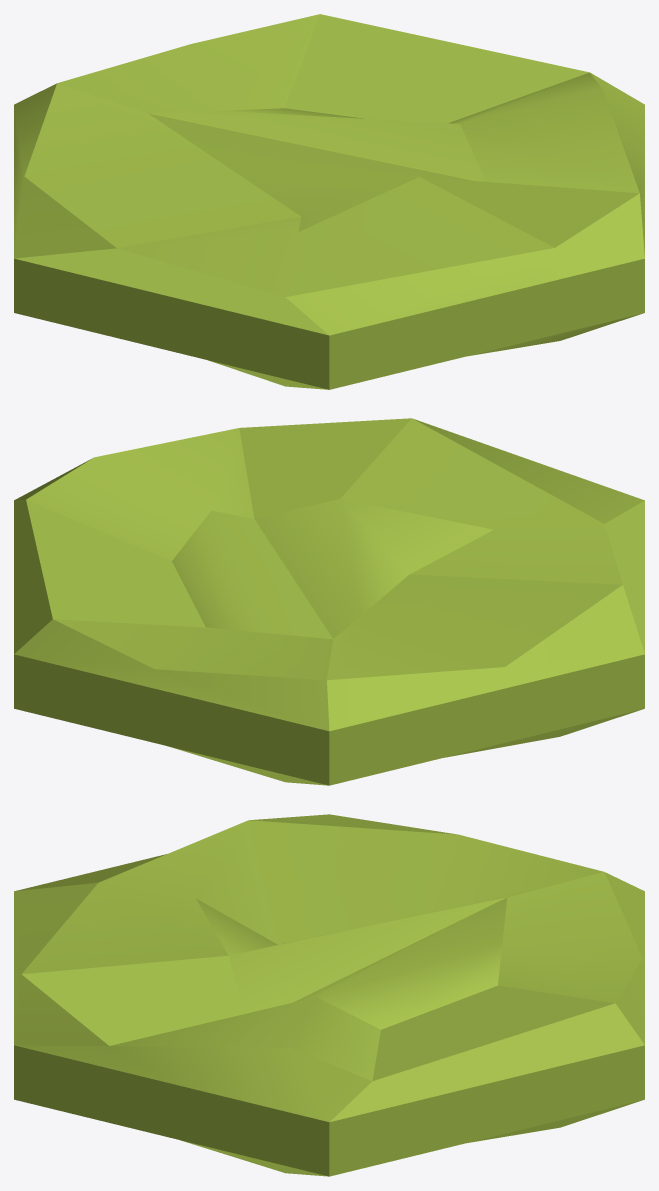
Rendered from tuileGazon.fbx.
The picture shows the model from 3 angles, top to bottom: view 1: azimuth 30°, elevation 25°; view 2: azimuth 150°, elevation 25°; view 3: azimuth 270°, elevation 25°; orthographic projection.
Visible parts, largest first — view 1: tuileGazon; view 2: tuileGazon; view 3: tuileGazon.
Boxes of the visible parts, x1=… form: tuileGazon: x1=14, y1=14, x2=644, y2=389; tuileGazon: x1=14, y1=418, x2=644, y2=785; tuileGazon: x1=14, y1=814, x2=644, y2=1176.
Size of the model in its own units: 217 by 44.5 by 188.
